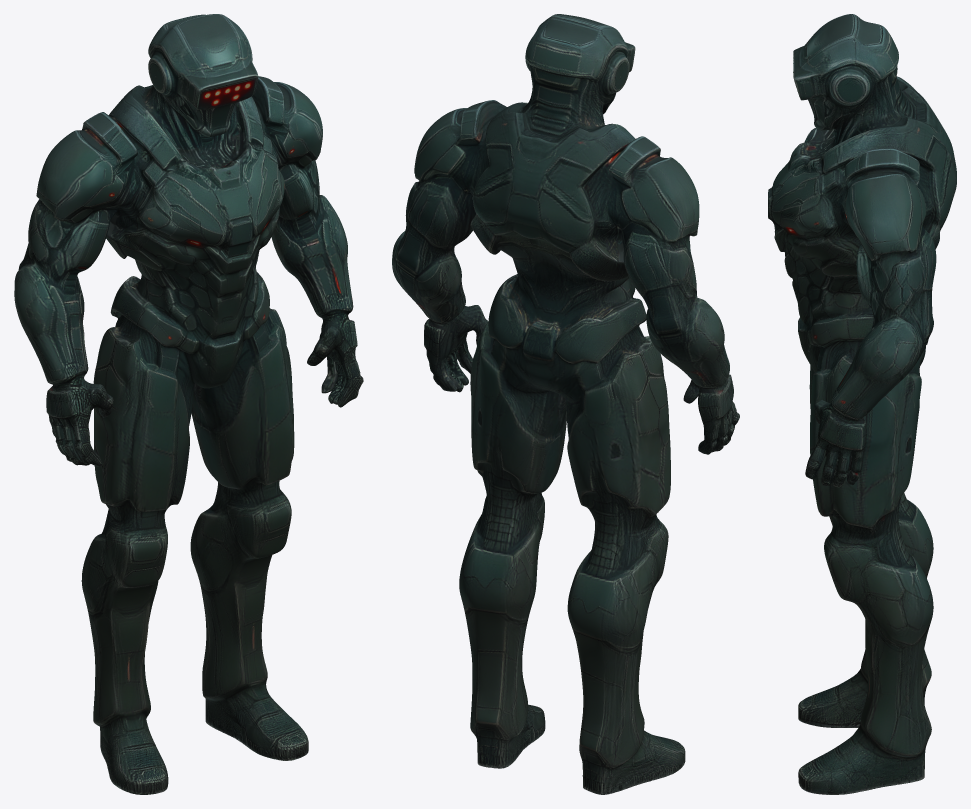
File: sentinel.glb
3 views of the same model, side by side, from view 1: azimuth 30°, elevation 25°; view 2: azimuth 150°, elevation 25°; view 3: azimuth 270°, elevation 25° (orthographic).
Visible parts, largest first — view 1: Mesh_0; view 2: Mesh_0; view 3: Mesh_0.
Part boxes in pixels (x1,y1,x2,y2): Mesh_0: [14, 14, 363, 794]; Mesh_0: [392, 14, 739, 794]; Mesh_0: [768, 14, 956, 794].
Bounding box in the file's own units: 0.8646 × 1.9 × 0.4465.
1 material, 1 textured.
